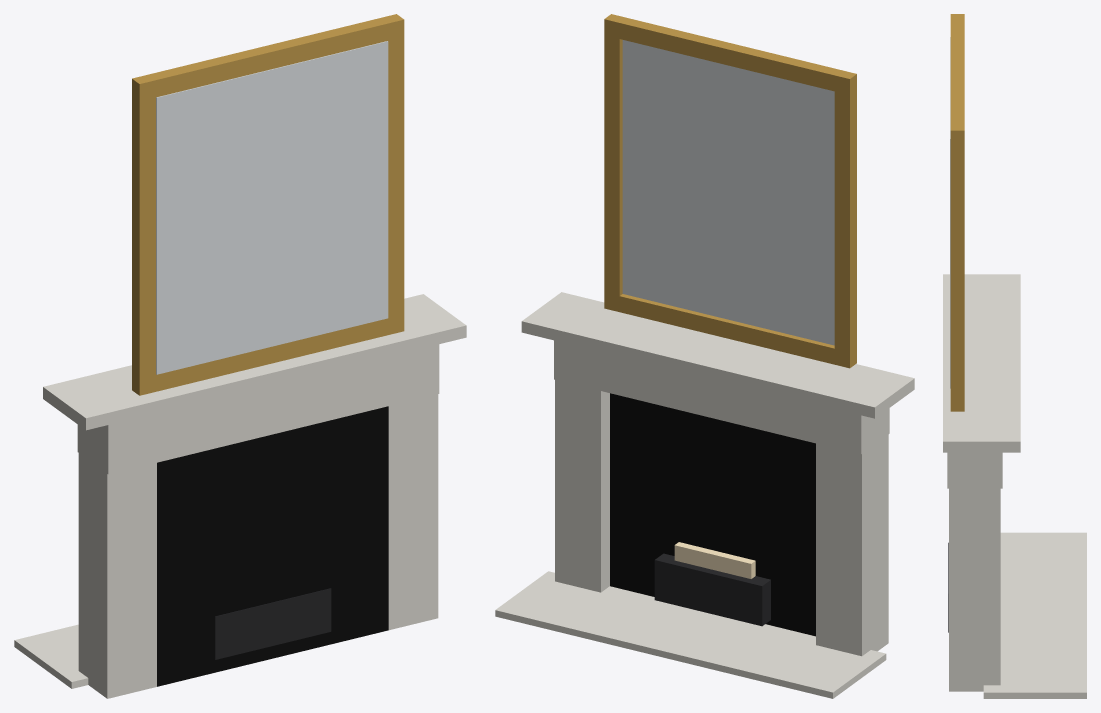
The model's file is home.mansion.marble_fireplace.glb.
3 views of the same model, side by side, from view 1: azimuth 30°, elevation 25°; view 2: azimuth 150°, elevation 25°; view 3: azimuth 270°, elevation 25° (orthographic). The views are drawn at different scales.
Parts seen in each view (by area): view 1: main__mirror, main__marble, main__plastic_black, main__brass, main__cast_iron; view 2: main__marble, main__mirror, main__plastic_black, main__brass, main__cast_iron, main__glow; view 3: main__marble, main__brass, main__mirror.
Boxes of the visible parts, box(x1,y1,x2,y2) form: main__mirror: box(156, 41, 388, 374); main__marble: box(14, 294, 466, 698); main__plastic_black: box(157, 406, 388, 686); main__brass: box(132, 14, 404, 395); main__cast_iron: box(215, 588, 331, 659); main__marble: box(495, 292, 914, 698); main__mirror: box(622, 40, 834, 345); main__plastic_black: box(610, 393, 815, 636); main__brass: box(604, 14, 856, 368); main__cast_iron: box(654, 553, 770, 626); main__glow: box(674, 542, 755, 578); main__marble: box(943, 274, 1086, 698); main__brass: box(950, 14, 964, 411); main__mirror: box(950, 37, 950, 388).
Size of the model in its own units: 2.3 by 3.5 by 0.835.
